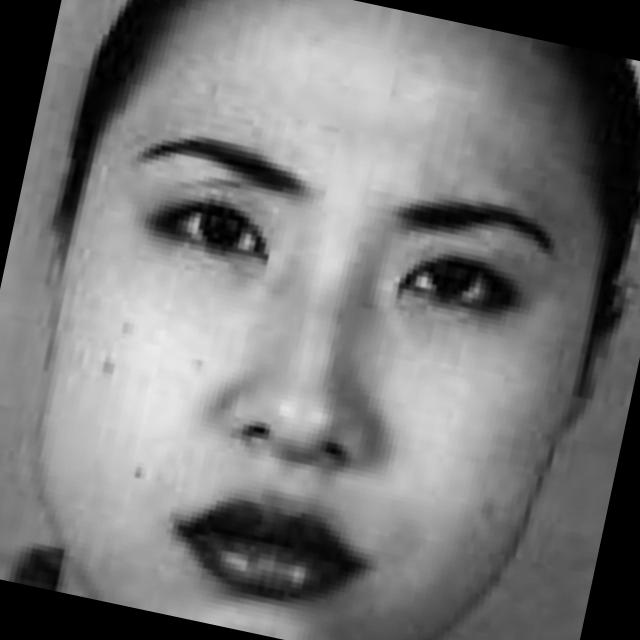disgust: (0, 17, 623, 640)
